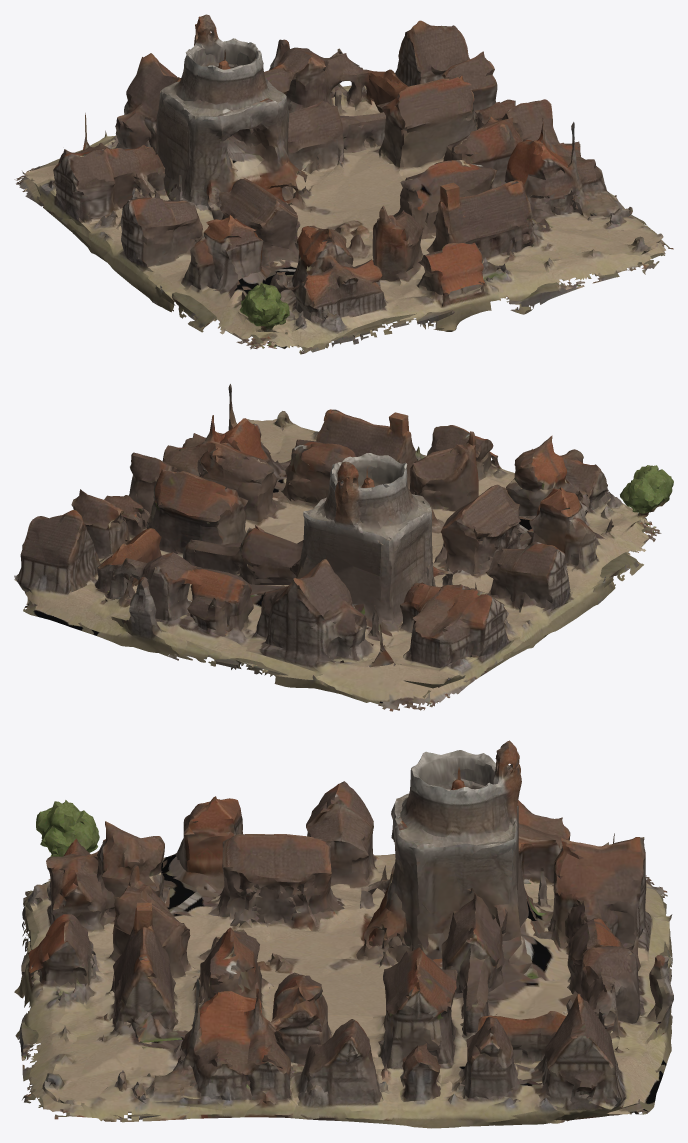
File: human_city.glb
The picture shows the model from 3 angles, top to bottom: view 1: azimuth 30°, elevation 25°; view 2: azimuth 150°, elevation 25°; view 3: azimuth 270°, elevation 25°; orthographic projection. The views are drawn at different scales.
Parts seen in each view (by area): view 1: output_unwrapped; view 2: output_unwrapped; view 3: output_unwrapped.
Boxes of the visible parts, x1,y1,x2,y2 form: output_unwrapped: (14, 14, 673, 354); output_unwrapped: (14, 384, 673, 711); output_unwrapped: (14, 740, 673, 1128).
Bounding box in the file's own units: 1.8 × 0.7122 × 1.9.
1 material, 1 textured.
